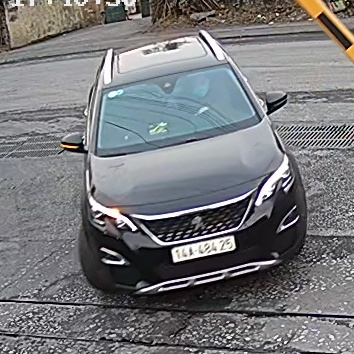vehicle plate: (165, 234, 246, 266)
